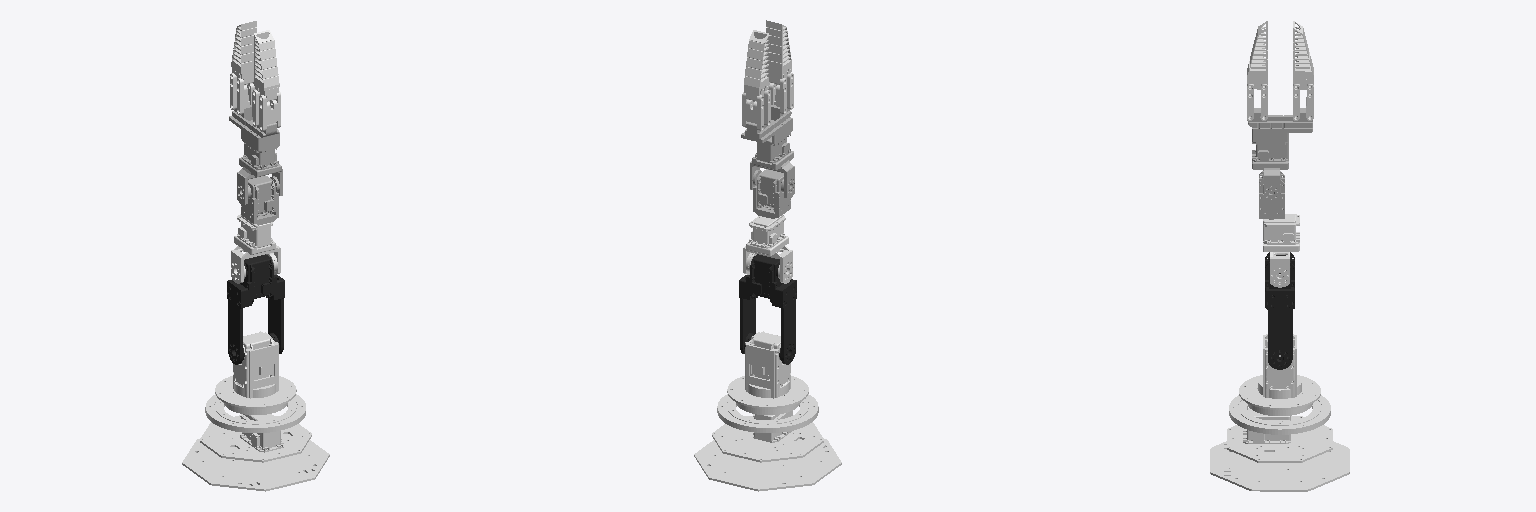
The robot description file, URDF, robot "dynamixel_arm":
<?xml version="1.0" ?>
<robot name="dynamixel_arm">
  <material name="silver_default">
    <color rgba="0.700 0.700 0.700 1.000"/>
  </material>
  <material name="opaque235235235">
    <color rgba="0.9215686274509803 0.9215686274509803 0.9215686274509803 1.0"/>
  </material>
  <material name="opaque545454">
    <color rgba="0.21176470588235294 0.21176470588235294 0.21176470588235294 1.0"/>
  </material>
  <material name="opaque191191191">
    <color rgba="0.7490196078431373 0.7490196078431373 0.7490196078431373 1.0"/>
  </material>

  <!-- Transmissions -->
  <transmission name="joint1_tran">
    <type>transmission_interface/SimpleTransmission</type>
    <joint name="joint1">
      <hardwareInterface>hardware_interface/PositionJointInterface</hardwareInterface>
    </joint>
    <actuator name="joint1_actr">
      <hardwareInterface>hardware_interface/PositionJointInterface</hardwareInterface>
      <mechanicalReduction>1</mechanicalReduction>
    </actuator>
  </transmission>

  <transmission name="joint2_tran">
    <type>transmission_interface/SimpleTransmission</type>
    <joint name="joint2">
      <hardwareInterface>hardware_interface/PositionJointInterface</hardwareInterface>
    </joint>
    <actuator name="joint2_actr">
      <hardwareInterface>hardware_interface/PositionJointInterface</hardwareInterface>
      <mechanicalReduction>1</mechanicalReduction>
    </actuator>
  </transmission>

  <transmission name="joint3_tran">
    <type>transmission_interface/SimpleTransmission</type>
    <joint name="joint3">
      <hardwareInterface>hardware_interface/PositionJointInterface</hardwareInterface>
    </joint>
    <actuator name="joint3_actr">
      <hardwareInterface>hardware_interface/PositionJointInterface</hardwareInterface>
      <mechanicalReduction>1</mechanicalReduction>
    </actuator>
  </transmission>

  <transmission name="joint4_tran">
    <type>transmission_interface/SimpleTransmission</type>
    <joint name="joint4">
      <hardwareInterface>hardware_interface/PositionJointInterface</hardwareInterface>
    </joint>
    <actuator name="joint4_actr">
      <hardwareInterface>hardware_interface/PositionJointInterface</hardwareInterface>
      <mechanicalReduction>1</mechanicalReduction>
    </actuator>
  </transmission>

  <transmission name="joint5_tran">
    <type>transmission_interface/SimpleTransmission</type>
    <joint name="joint5">
      <hardwareInterface>hardware_interface/PositionJointInterface</hardwareInterface>
    </joint>
    <actuator name="joint5_actr">
      <hardwareInterface>hardware_interface/PositionJointInterface</hardwareInterface>
      <mechanicalReduction>1</mechanicalReduction>
    </actuator>
  </transmission>

  <transmission name="gripper_tran">
    <type>transmission_interface/SimpleTransmission</type>
    <joint name="gripper">
      <hardwareInterface>hardware_interface/PositionJointInterface</hardwareInterface>
    </joint>
    <actuator name="gripper_actr">
      <hardwareInterface>hardware_interface/PositionJointInterface</hardwareInterface>
      <mechanicalReduction>1</mechanicalReduction>
    </actuator>
  </transmission>

  <transmission name="outlink1_tran">
    <type>transmission_interface/SimpleTransmission</type>
    <joint name="outlink1">
      <hardwareInterface>hardware_interface/PositionJointInterface</hardwareInterface>
    </joint>
    <actuator name="outlink1_actr">
      <hardwareInterface>hardware_interface/PositionJointInterface</hardwareInterface>
      <mechanicalReduction>1</mechanicalReduction>
    </actuator>
  </transmission>

  <transmission name="outlink2_upper_tran">
    <type>transmission_interface/SimpleTransmission</type>
    <joint name="outlink2_upper">
      <hardwareInterface>hardware_interface/PositionJointInterface</hardwareInterface>
    </joint>
    <actuator name="outlink2_upper_actr">
      <hardwareInterface>hardware_interface/PositionJointInterface</hardwareInterface>
      <mechanicalReduction>1</mechanicalReduction>
    </actuator>
  </transmission>

  <transmission name="outlink1_upper_tran">
    <type>transmission_interface/SimpleTransmission</type>
    <joint name="outlink1_upper">
      <hardwareInterface>hardware_interface/PositionJointInterface</hardwareInterface>
    </joint>
    <actuator name="outlink1_upper_actr">
      <hardwareInterface>hardware_interface/PositionJointInterface</hardwareInterface>
      <mechanicalReduction>1</mechanicalReduction>
    </actuator>
  </transmission>

  <!-- Links -->
  <link name="base_link">
    <inertial>
      <origin rpy="0 0 0" xyz="-0.000113337289716781 -0.00309076282926622 0.056311276285655"/>
      <mass value="0.422228337302641"/>
      <inertia ixx="0.00112843002096474" ixy="-1.66340254078764e-07" ixz="1.17964827473214e-06" iyy="0.00109272943382664" iyz="-1.56035446544229e-06" izz="0.0010635705036595"/>
    </inertial>
    <visual>
      <origin rpy="0 0 0" xyz="0 0 0"/>
      <geometry>
        <mesh filename="package://dynamixel_arm_description/meshes/base_link.stl" scale="0.001 0.001 0.001"/>
      </geometry>
      <material name="opaque235235235"/>
    </visual>
    <collision>
      <origin rpy="0 0 0" xyz="0 0 0"/>
      <geometry>
        <mesh filename="package://dynamixel_arm_description/meshes/base_link.stl" scale="0.001 0.001 0.001"/>
      </geometry>
    </collision>
  </link>

  <link name="link_1_1">
    <inertial>
      <origin rpy="0 0 0" xyz="-0.00021127011294436507 1.595606746709482e-05 0.03689469547015051"/>
      <mass value="0.191421447446045"/>
      <inertia ixx="0.000187614835027364" ixy="1.55276339993076e-09" ixz="1.97342429764555e-06" iyy="0.000199164507943486" iyz="-5.72420498094766e-08" izz="6.97213054895995e-05"/>
    </inertial>
    <visual>
      <origin rpy="0 0 0" xyz="0.000245 -4.5e-05 -0.1003"/>
      <geometry>
        <mesh filename="package://dynamixel_arm_description/meshes/link_1_1.stl" scale="0.001 0.001 0.001"/>
      </geometry>
      <material name="opaque235235235"/>
    </visual>
    <collision>
      <origin rpy="0 0 0" xyz="0.000245 -4.5e-05 -0.1003"/>
      <geometry>
        <mesh filename="package://dynamixel_arm_description/meshes/link_1_1.stl" scale="0.001 0.001 0.001"/>
      </geometry>
    </collision>
  </link>

  <link name="link_2_1">
    <inertial>
      <origin rpy="0 0 0" xyz="0.02591593484212496 3.986740963651461e-05 0.08437010561785152"/>
      <mass value="0.137640357094768"/>
      <inertia ixx="0.000210163851263243" ixy="2.1567553744296e-09" ixz="4.61871241706466e-06" iyy="0.00026441483283246" iyz="-8.51937840517638e-08" izz="8.19214620197699e-05"/>
    </inertial>
    <visual>
      <origin rpy="0 0 0" xyz="0.026245 -7.8e-05 -0.1729"/>
      <geometry>
        <mesh filename="package://dynamixel_arm_description/meshes/link_2_1.stl" scale="0.001 0.001 0.001"/>
      </geometry>
      <material name="opaque545454"/>
    </visual>
    <collision>
      <origin rpy="0 0 0" xyz="0.026245 -7.8e-05 -0.1729"/>
      <geometry>
        <mesh filename="package://dynamixel_arm_description/meshes/link_2_1.stl" scale="0.001 0.001 0.001"/>
      </geometry>
    </collision>
  </link>

  <link name="link_3_1">
    <inertial>
      <origin rpy="0 0 0" xyz="0.02389185573820618 0.00039017901099007115 0.039646162333625445"/>
      <mass value="0.0865814264869725"/>
      <inertia ixx="5.26983036251445e-05" ixy="1.23803634269193e-08" ixz="1.34215329925785e-06" iyy="5.82181519370745e-05" iyz="3.3725159958289e-07" izz="3.23003384463733e-05"/>
    </inertial>
    <visual>
      <origin rpy="0 0 0" xyz="0.023845 -0.000136 -0.296812"/>
      <geometry>
        <mesh filename="package://dynamixel_arm_description/meshes/link_3_1.stl" scale="0.001 0.001 0.001"/>
      </geometry>
      <material name="opaque235235235"/>
    </visual>
    <collision>
      <origin rpy="0 0 0" xyz="0.023845 -0.000136 -0.296812"/>
      <geometry>
        <mesh filename="package://dynamixel_arm_description/meshes/link_3_1.stl" scale="0.001 0.001 0.001"/>
      </geometry>
    </collision>
  </link>

  <link name="link_4_1">
    <inertial>
      <origin rpy="0 0 0" xyz="-4.729244333769619e-05 1.2736207935194407e-05 0.027634557411537197"/>
      <mass value="0.0619910161529994"/>
      <inertia ixx="2.25267050284594e-05" ixy="9.478187392860066e-11" ixz="2.04420176912613e-07" iyy="2.59843604385711e-05" iyz="-5.8368411178563e-09" izz="1.34826294019835e-05"/>
    </inertial>
    <visual>
      <origin rpy="0 0 0" xyz="0.000345 0.011427 -0.375018"/>
      <geometry>
        <mesh filename="package://dynamixel_arm_description/meshes/link_4_1.stl" scale="0.001 0.001 0.001"/>
      </geometry>
      <material name="opaque191191191"/>
    </visual>
    <collision>
      <origin rpy="0 0 0" xyz="0.000345 0.011427 -0.375018"/>
      <geometry>
        <mesh filename="package://dynamixel_arm_description/meshes/link_4_1.stl" scale="0.001 0.001 0.001"/>
      </geometry>
    </collision>
  </link>

  <link name="link_5_1">
    <inertial>
      <origin rpy="0 0 0" xyz="0.02247506515647412 0.0032734067218829366 0.059549232712919675"/>
      <mass value="0.125379089079449"/>
      <inertia ixx="0.000159136830790569" ixy="-5.13967328740984e-08" ixz="-9.34886894704644e-07" iyy="0.000128193874409835" iyz="-1.71087932324318e-05" izz="6.86470115827554e-05"/>
    </inertial>
    <visual>
      <origin rpy="0 0 0" xyz="0.023045 0.011405 -0.421518"/>
      <geometry>
        <mesh filename="package://dynamixel_arm_description/meshes/link_5_1.stl" scale="0.001 0.001 0.001"/>
      </geometry>
      <material name="opaque191191191"/>
    </visual>
    <collision>
      <origin rpy="0 0 0" xyz="0.023045 0.011405 -0.421518"/>
      <geometry>
        <mesh filename="package://dynamixel_arm_description/meshes/link_5_1.stl" scale="0.001 0.001 0.001"/>
      </geometry>
    </collision>
  </link>

  <link name="linkout_1_1">
    <inertial>
      <origin rpy="0 0 0" xyz="-0.008749719683909477 1.0177443021751331e-05 0.021281981725918775"/>
      <mass value="0.010667990446522"/>
      <inertia ixx="1.66185068535855e-06" ixy="6.296366473855638e-19" ixz="5.831398325372231e-18" iyy="2.51806760939721e-06" iyz="-6.83607997357775e-10" izz="1.0414279599588e-06"/>
    </inertial>
    <visual>
      <origin rpy="0 0 0" xyz="-0.008255 0.040756 -0.527932"/>
      <geometry>
        <mesh filename="package://dynamixel_arm_description/meshes/linkout_1_1.stl" scale="0.001 0.001 0.001"/>
      </geometry>
      <material name="opaque235235235"/>
    </visual>
    <collision>
      <origin rpy="0 0 0" xyz="-0.008255 0.040756 -0.527932"/>
      <geometry>
        <mesh filename="package://dynamixel_arm_description/meshes/linkout_1_1.stl" scale="0.001 0.001 0.001"/>
      </geometry>
    </collision>
  </link>

  <link name="linkin_1_1">
    <inertial>
      <origin rpy="0 0 0" xyz="-0.008749719683895821 -6.803660653320262e-05 0.021452642980543057"/>
      <mass value="0.009902955851522"/>
      <inertia ixx="1.63040160058425e-06" ixy="6.281675746176696e-19" ixz="-5.685285141970864e-18" iyy="2.4911226210139e-06" iyz="-6.73132213324949e-09" izz="1.03347610765994e-06"/>
    </inertial>
    <visual>
      <origin rpy="0 0 0" xyz="-0.008255 0.021756 -0.527923"/>
      <geometry>
        <mesh filename="package://dynamixel_arm_description/meshes/linkin_1_1.stl" scale="0.001 0.001 0.001"/>
      </geometry>
      <material name="opaque235235235"/>
    </visual>
    <collision>
      <origin rpy="0 0 0" xyz="-0.008255 0.021756 -0.527923"/>
      <geometry>
        <mesh filename="package://dynamixel_arm_description/meshes/linkin_1_1.stl" scale="0.001 0.001 0.001"/>
      </geometry>
    </collision>
  </link>

  <link name="linkin_2_1">
    <inertial>
      <origin rpy="0 0 0" xyz="-0.008749719683863354 8.849206158021566e-05 0.021453029167782023"/>
      <mass value="0.009902955851522"/>
      <inertia ixx="1.63040160058381e-06" ixy="6.317542297536996e-19" ixz="5.828433710056841e-18" iyy="2.49113391998564e-06" iyz="5.37035048676633e-09" izz="1.03346480868897e-06"/>
    </inertial>
    <visual>
      <origin rpy="0 0 0" xyz="-0.008255 -0.022244 -0.527902"/>
      <geometry>
        <mesh filename="package://dynamixel_arm_description/meshes/linkin_2_1.stl" scale="0.001 0.001 0.001"/>
      </geometry>
      <material name="opaque235235235"/>
    </visual>
    <collision>
      <origin rpy="0 0 0" xyz="-0.008255 -0.022244 -0.527902"/>
      <geometry>
        <mesh filename="package://dynamixel_arm_description/meshes/linkin_2_1.stl" scale="0.001 0.001 0.001"/>
      </geometry>
    </collision>
  </link>

  <link name="linkout_2_1">
    <inertial>
      <origin rpy="0 0 0" xyz="-0.008749719683849508 1.0168507691990514e-05 0.02128270126064702"/>
      <mass value="0.010667990446522"/>
      <inertia ixx="1.66185068535768e-06" ixy="6.293190100303435e-19" ixz="5.829704259477722e-18" iyy="2.51806760939721e-06" iyz="-6.83607997411986e-10" izz="1.0414279599588e-06"/>
    </inertial>
    <visual>
      <origin rpy="0 0 0" xyz="-0.008255 -0.041244 -0.527893"/>
      <geometry>
        <mesh filename="package://dynamixel_arm_description/meshes/linkout_2_1.stl" scale="0.001 0.001 0.001"/>
      </geometry>
      <material name="opaque235235235"/>
    </visual>
    <collision>
      <origin rpy="0 0 0" xyz="-0.008255 -0.041244 -0.527893"/>
      <geometry>
        <mesh filename="package://dynamixel_arm_description/meshes/linkout_2_1.stl" scale="0.001 0.001 0.001"/>
      </geometry>
    </collision>
  </link>

  <link name="fin_2_1">
    <inertial>
      <origin rpy="0 0 0" xyz="-0.008699719683907058 0.011136821290282563 0.025898859363805316"/>
      <mass value="0.0281715781011337"/>
      <inertia ixx="1.75973238202426e-05" ixy="-1.457955460461464e-19" ixz="4.938202082492571e-19" iyy="1.71444337400337e-05" iyz="-1.60996065305652e-06" izz="3.2281470901434e-06"/>
    </inertial>
    <visual>
      <origin rpy="0 0 0" xyz="-0.008255 0.040735 -0.572932"/>
      <geometry>
        <mesh filename="package://dynamixel_arm_description/meshes/fin_2_1.stl" scale="0.001 0.001 0.001"/>
      </geometry>
      <material name="opaque235235235"/>
    </visual>
    <collision>
      <origin rpy="0 0 0" xyz="-0.008255 0.040735 -0.572932"/>
      <geometry>
        <mesh filename="package://dynamixel_arm_description/meshes/fin_2_1.stl" scale="0.001 0.001 0.001"/>
      </geometry>
    </collision>
  </link>

  <link name="fin_1_1">
    <inertial>
      <origin rpy="0 0 0" xyz="-0.008699719683863214 -0.010810946932019807 0.025909852599709793"/>
      <mass value="0.0281715332339428"/>
      <inertia ixx="1.75842581258794e-05" ixy="-5.014964443337492e-19" ixz="2.763021473943528e-18" iyy="1.71473246262221e-05" iyz="1.50304933944781e-06" izz="3.21218655379927e-06"/>
    </inertial>
    <visual>
      <origin rpy="0 0 0" xyz="-0.008255 -0.041265 -0.572893"/>
      <geometry>
        <mesh filename="package://dynamixel_arm_description/meshes/fin_1_1.stl" scale="0.001 0.001 0.001"/>
      </geometry>
      <material name="opaque235235235"/>
    </visual>
    <collision>
      <origin rpy="0 0 0" xyz="-0.008255 -0.041265 -0.572893"/>
      <geometry>
        <mesh filename="package://dynamixel_arm_description/meshes/fin_1_1.stl" scale="0.001 0.001 0.001"/>
      </geometry>
    </collision>
  </link>

  <link name="end_effector"/>
  <link name="gripper_link"/>

  <!-- Joints -->
  <joint name="joint1" type="revolute">
    <origin rpy="0 0 0" xyz="-0.000245 4.5e-05 0.1003"/>
    <parent link="base_link"/>
    <child link="link_1_1"/>
    <axis xyz="0 0 1"/>
    <limit effort="100" lower="-3.141593" upper="3.141593" velocity="100"/>
  </joint>

  <joint name="joint2" type="revolute">
    <origin rpy="0 0 0" xyz="-0.026 3.3e-05 0.0726"/>
    <parent link="link_1_1"/>
    <child link="link_2_1"/>
    <axis xyz="-1 0 0"/>
    <limit effort="100" lower="-1.570796" upper="1.570796" velocity="100"/>
  </joint>

  <joint name="joint3" type="revolute">
    <origin rpy="0 0 0" xyz="0.0024 5.8e-05 0.123912"/>
    <parent link="link_2_1"/>
    <child link="link_3_1"/>
    <axis xyz="-1 0 0"/>
    <limit effort="100" lower="-1.570796" upper="1.570796" velocity="100"/>
  </joint>

  <joint name="joint4" type="revolute">
    <origin rpy="0 0 0" xyz="0.0235 -0.011563 0.078206"/>
    <parent link="link_3_1"/>
    <child link="link_4_1"/>
    <axis xyz="0 0 1"/>
    <limit effort="100" lower="-3.141593" upper="3.141593" velocity="100"/>
  </joint>

  <joint name="joint5" type="revolute">
    <origin rpy="0 0 0" xyz="-0.0227 2.2e-05 0.0465"/>
    <parent link="link_4_1"/>
    <child link="link_5_1"/>
    <axis xyz="-1 0 0"/>
    <limit effort="100" lower="-1.570796" upper="1.570796" velocity="100"/>
  </joint>

<!-- ======= Gripper Joints ======= -->

  <joint name="outlink2" type="revolute">
    <origin rpy="0 0 0" xyz="0.0313 -0.029351 0.106414"/>
    <parent link="link_5_1"/>
    <child link="linkout_1_1"/>
    <axis xyz="-1 0 0"/>
    <limit effort="100" lower="-0.575959" upper="0.383972" velocity="100"/>
    <mimic joint="gripper" multiplier="0.05" offset="0.006"/> <!-- Gripper Multiplier --> 
  </joint>

  <joint name="inlink2" type="revolute">
    <origin rpy="0 0 0" xyz="0.0313 -0.010351 0.106405"/>
    <parent link="link_5_1"/>
    <child link="linkin_1_1"/>
    <axis xyz="-1 0 0"/>
    <limit effort="100" lower="-0.575959" upper="0.383972" velocity="100"/>
    <mimic joint="gripper" multiplier="0.05" offset="0.006"/> <!-- Gripper Multiplier --> 
  </joint>

  <joint name="outlink2_upper" type="revolute">
    <origin rpy="0 0 0" xyz="0.0 2.1e-05 0.045"/>
    <parent link="linkout_1_1"/>
    <child link="fin_2_1"/>
    <axis xyz="1 0 0"/>
    <limit effort="100" lower="-0.575959" upper="0.383972" velocity="100"/>
    <mimic joint="gripper" multiplier="0.05" offset="0.006"/> <!-- Gripper Multiplier --> 
  </joint>

  <joint name="outlink1" type="revolute">
    <origin rpy="0 0 0" xyz="0.0313 0.052649 0.106375"/>
    <parent link="link_5_1"/>
    <child link="linkout_2_1"/>
    <axis xyz="-1 0 0"/>
    <limit effort="100" lower="-0.383972" upper="0.575959" velocity="100"/>
    <mimic joint="gripper" multiplier="-0.05" offset="0.006"/> <!-- Gripper Multiplier --> 
  </joint>

  <joint name="inlink1" type="revolute">
    <origin rpy="0 0 0" xyz="0.0313 0.033649 0.106384"/>
    <parent link="link_5_1"/>
    <child link="linkin_2_1"/>
    <axis xyz="-1 0 0"/>
    <limit effort="100" lower="-0.383972" upper="0.575959" velocity="100"/>
    <mimic joint="gripper" multiplier="-0.05" offset="0.006"/> <!-- Gripper Multiplier --> 
  </joint>

  <joint name="outlink1_upper" type="revolute">
    <origin rpy="0 0 0" xyz="0.0 2.1e-05 0.045"/>
    <parent link="linkout_2_1"/>
    <child link="fin_1_1"/>
    <axis xyz="1 0 0"/>
    <limit effort="100" lower="-0.383972" upper="0.575959" velocity="100"/>
    <mimic joint="gripper" multiplier="-0.05" offset="0.006"/> <!-- Gripper Multiplier --> 
  </joint>

  <joint name="gripper" type="revolute">
    <origin xyz="0.0226 0.01194171505988 0.24098628193808" rpy="0 0 0"/>
    <parent link="link_5_1"/>
    <child link="gripper_link"/>
    <axis xyz="0 0 1"/>
    <limit effort="100" lower="-65.5269905" upper="94.98867187" velocity="10.0"/> <!-- Gripper Multiplier --> 
  </joint>

  <joint name="end_effector_frame" type="fixed">
    <parent link="link_5_1"/>
    <child link="end_effector"/>
    <origin xyz="0.0226 0.01194171505988 0.24098628193808" rpy="0 0 0"/>
  </joint>
  
  <ros2_control name="DynamixelArmHardwareInterface" type="system">
    <hardware>
        <plugin>dynamixel_hardware/DynamixelHardware</plugin>
        <param name="usb_port">/dev/ttyUSB0</param>
        <param name="port_name">/dev/ttyUSB0</param>
        <param name="baud_rate">1000000</param>
        <param name="use_dummy">false</param>
    </hardware>

    <joint name="joint1">
        <param name="id">1</param>
        <param name="control_mode">position</param> 
        <command_interface name="position"/>
        <state_interface name="position"/>
        <state_interface name="velocity"/>
    </joint>

    <joint name="joint2">
        <param name="id">2</param>
        <param name="control_mode">position</param> 
        <command_interface name="position"/>
        <state_interface name="position"/>
        <state_interface name="velocity"/>
    </joint>
    
    <joint name="joint3">
        <param name="id">3</param>
        <param name="control_mode">position</param> 
        <command_interface name="position"/>
        <state_interface name="position"/>
        <state_interface name="velocity"/>
    </joint>

    <joint name="joint4">
        <param name="id">4</param>
        <param name="control_mode">position</param> 
        <command_interface name="position"/>
        <state_interface name="position"/>
        <state_interface name="velocity"/>
    </joint>

    <joint name="joint5">
        <param name="id">5</param>
        <param name="control_mode">position</param> 
        <command_interface name="position"/>
        <state_interface name="position"/>
        <state_interface name="velocity"/>
    </joint>

    <joint name="gripper">
        <param name="id">6</param>
        <param name="control_mode">extended_position</param> 
        <command_interface name="position"/>
        <state_interface name="position"/>
        <state_interface name="velocity"/>
    </joint>

  </ros2_control>

</robot>

--- Render facts (derived) ---
Views: 3 orthographic renders of the robot side by side, from view 1: azimuth 30°, elevation 25°; view 2: azimuth 150°, elevation 25°; view 3: azimuth 270°, elevation 25°.
Robot: dynamixel_arm — 14 links, 13 joints (12 revolute, 1 fixed); root link base_link; default pose: every joint at zero.
Visible links, largest first — view 1: base_link, link_2_1, link_5_1, link_1_1, link_3_1, fin_2_1, link_4_1, fin_1_1, linkout_1_1; view 2: base_link, link_2_1, link_5_1, link_1_1, link_3_1, fin_1_1, link_4_1, fin_2_1, linkout_2_1; view 3: base_link, link_5_1, link_2_1, link_3_1, link_1_1, fin_1_1, fin_2_1, link_4_1.
Link boxes in pixels (left/top/right/bottom): base_link: left=182, top=376, right=329, bottom=491; link_2_1: left=227, top=254, right=284, bottom=364; link_5_1: left=229, top=105, right=282, bottom=204; link_1_1: left=233, top=331, right=278, bottom=398; link_3_1: left=231, top=214, right=280, bottom=283; fin_2_1: left=254, top=30, right=279, bottom=101; link_4_1: left=241, top=175, right=278, bottom=225; fin_1_1: left=231, top=21, right=256, bottom=84; linkout_1_1: left=259, top=91, right=280, bottom=131; base_link: left=694, top=376, right=841, bottom=491; link_2_1: left=739, top=254, right=796, bottom=364; link_5_1: left=741, top=105, right=794, bottom=198; link_1_1: left=745, top=331, right=790, bottom=398; link_3_1: left=743, top=215, right=792, bottom=283; fin_1_1: left=744, top=30, right=768, bottom=101; link_4_1: left=753, top=169, right=790, bottom=218; fin_2_1: left=766, top=20, right=791, bottom=84; linkout_2_1: left=742, top=92, right=763, bottom=131; base_link: left=1210, top=375, right=1349, bottom=491; link_5_1: left=1247, top=108, right=1312, bottom=204; link_2_1: left=1265, top=252, right=1294, bottom=369; link_3_1: left=1263, top=214, right=1299, bottom=287; link_1_1: left=1258, top=334, right=1301, bottom=398; fin_1_1: left=1293, top=21, right=1313, bottom=89; fin_2_1: left=1247, top=21, right=1267, bottom=89; link_4_1: left=1259, top=171, right=1284, bottom=219.
Size in the robot's own frame: 0.1907 by 0.1907 by 0.6626 metres.
Meshes: 12 distinct files referenced, 12 mesh visuals loaded (12 binary STL).
